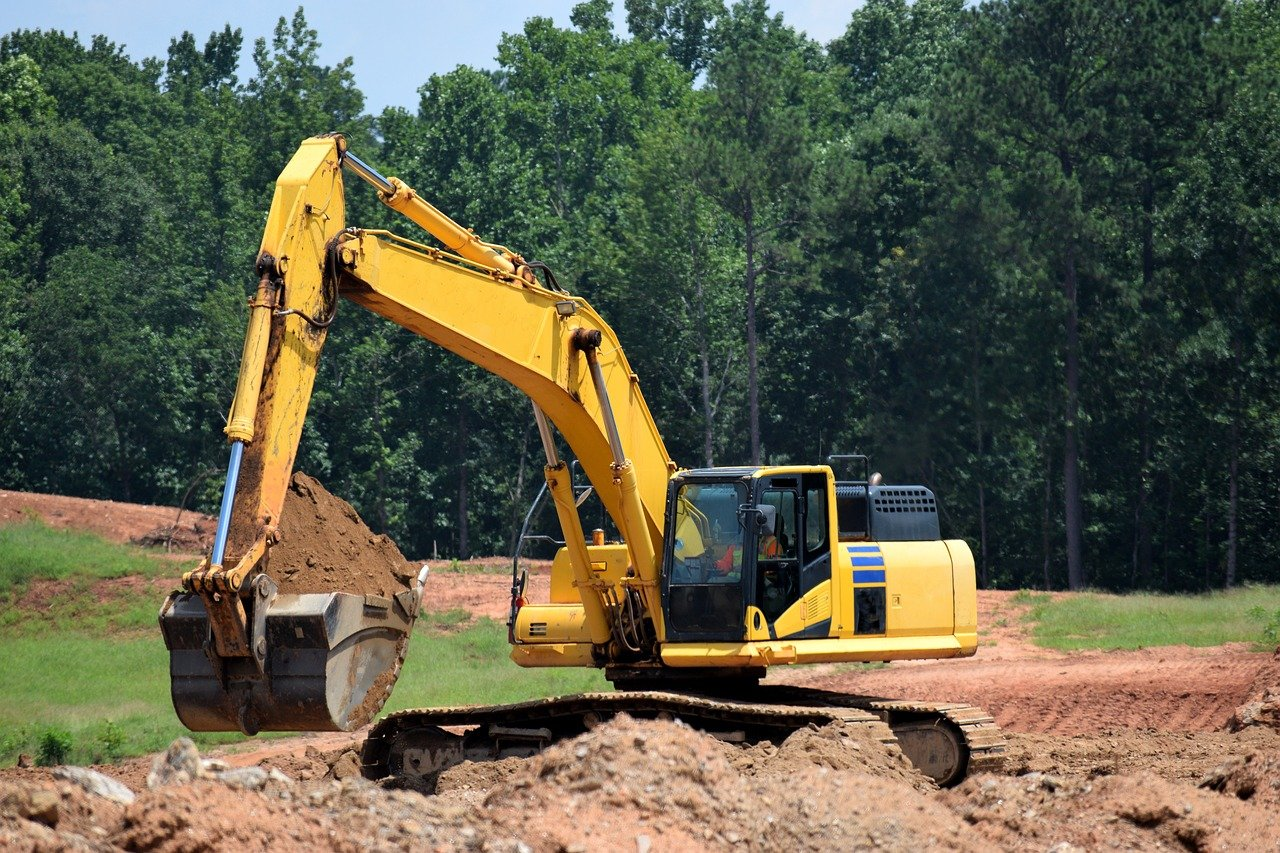bulldozer: (155, 116, 1039, 799)
